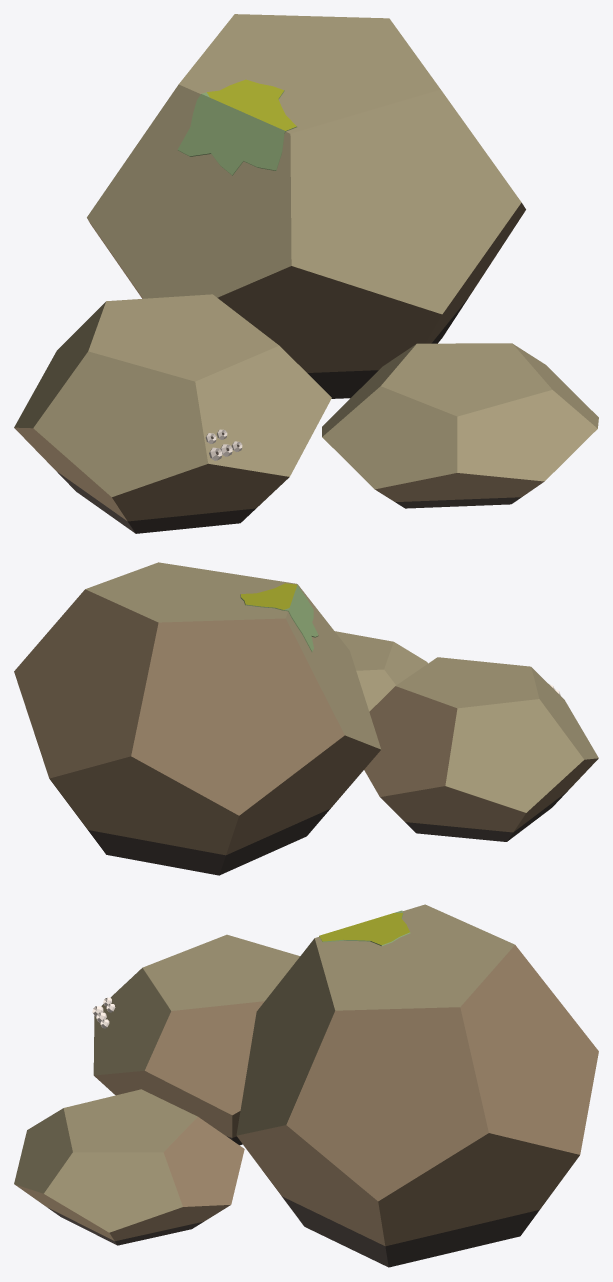
Rendered from tropicalRockSmall.glb.
3 views of the same model, one above another, from view 1: azimuth 30°, elevation 25°; view 2: azimuth 150°, elevation 25°; view 3: azimuth 270°, elevation 25° (orthographic). The views are drawn at different scales.
Parts seen in each view (by area): view 1: tropicalRockSmall; view 2: tropicalRockSmall; view 3: tropicalRockSmall.
Part boxes in pixels (x1,y1,x2,y2): tropicalRockSmall: (14, 14, 598, 533); tropicalRockSmall: (14, 562, 598, 875); tropicalRockSmall: (14, 904, 598, 1267).
Bounding box in the file's own units: 2 × 1 × 2.
1 material, 1 textured.
